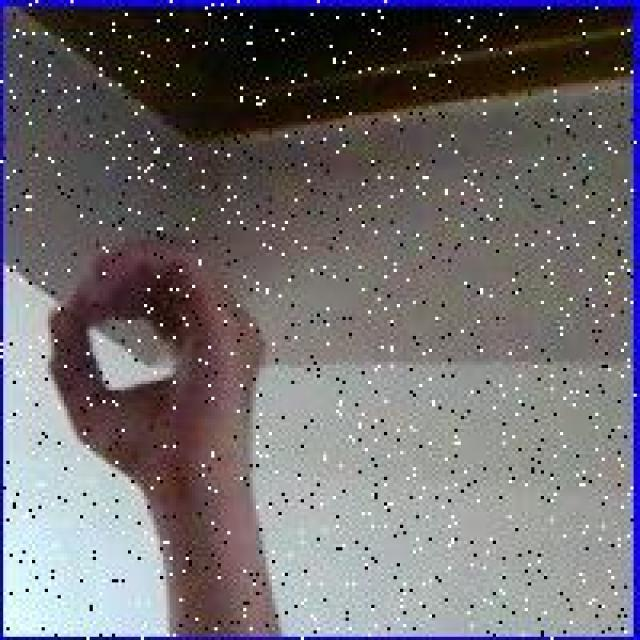O: (38, 234, 278, 496)
